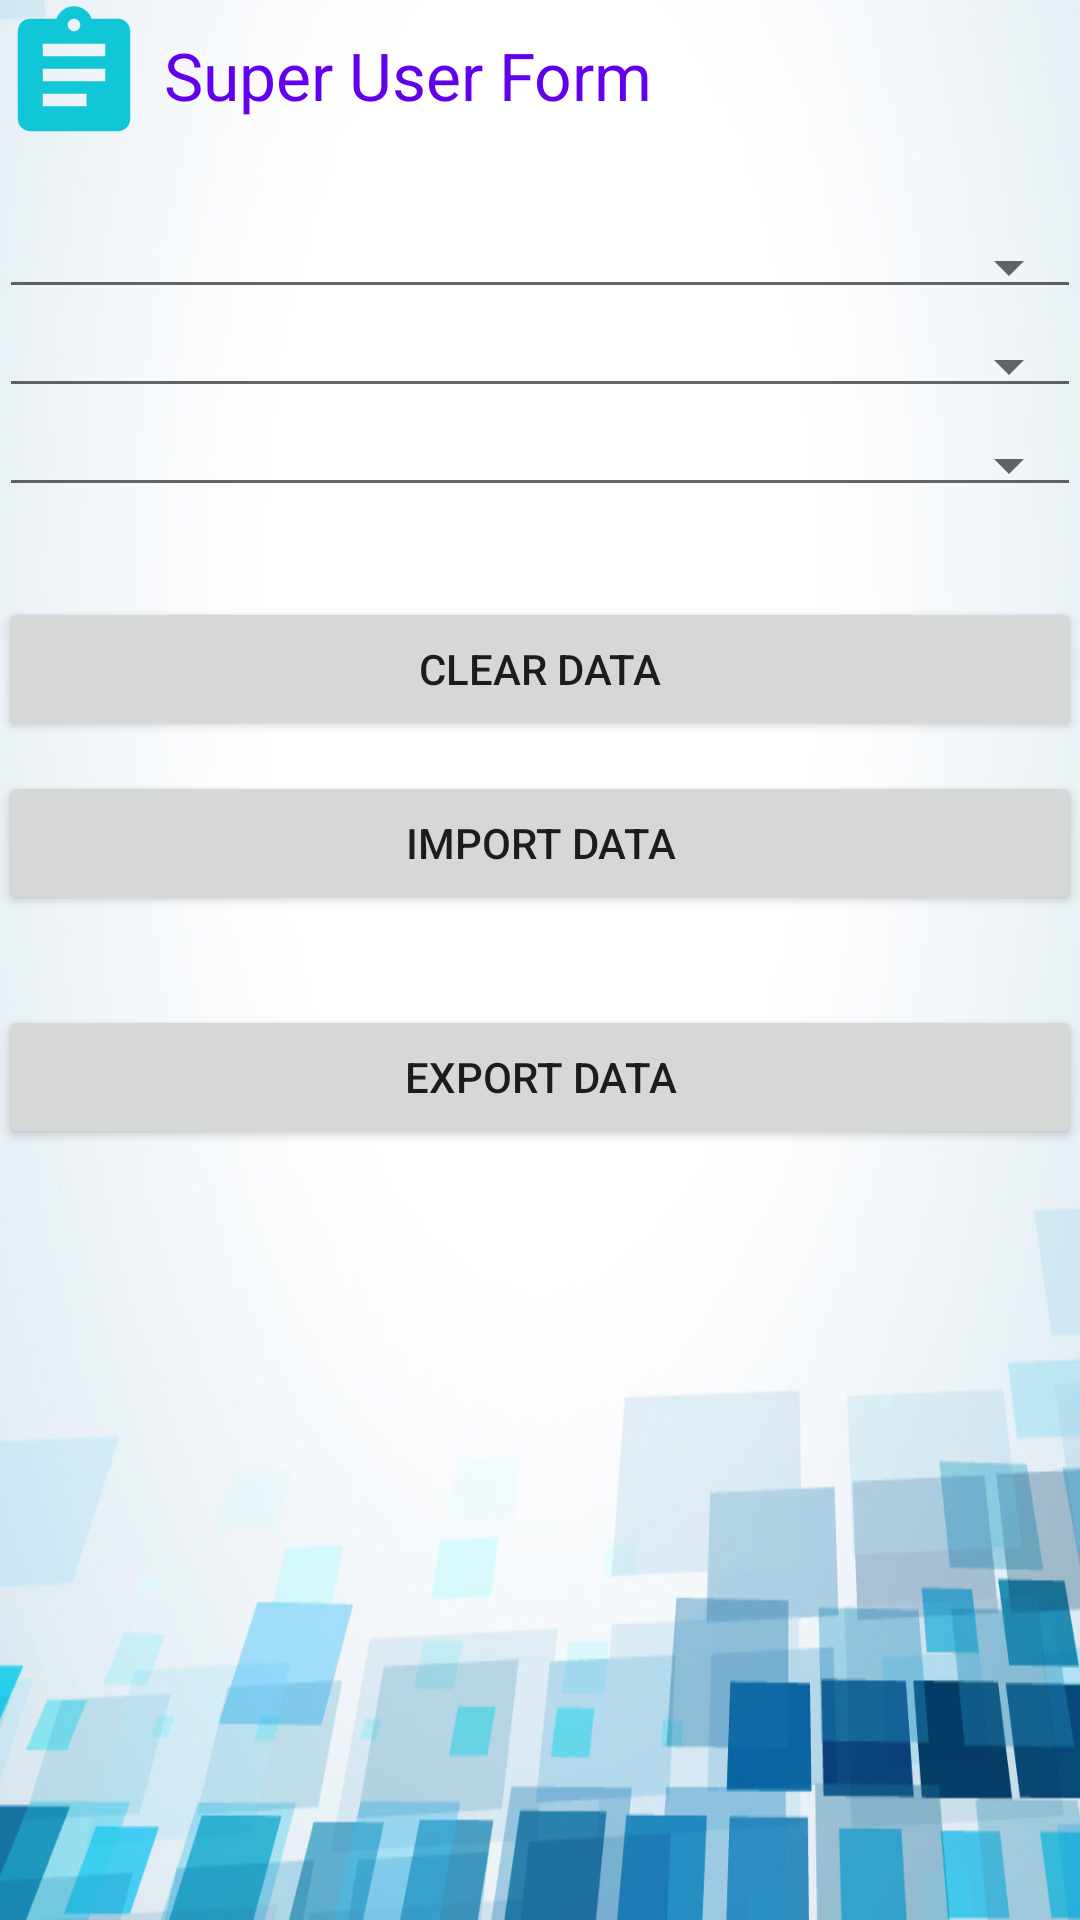

Screen size 1080px x 1920px. Icon name, then its center in pixels as point (x, y):
assignment: point (65, 66)
